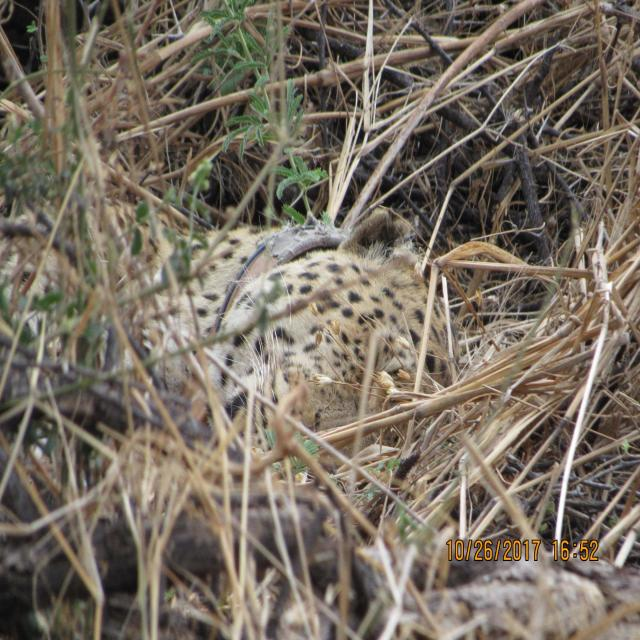Leopard: (84, 195, 465, 460)
